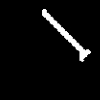half_double_crochet: (42, 9, 90, 61)
